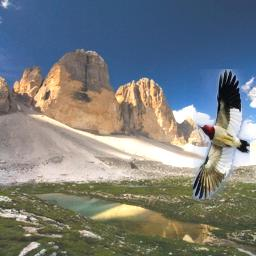Woodpecker: (193, 69, 250, 199)
